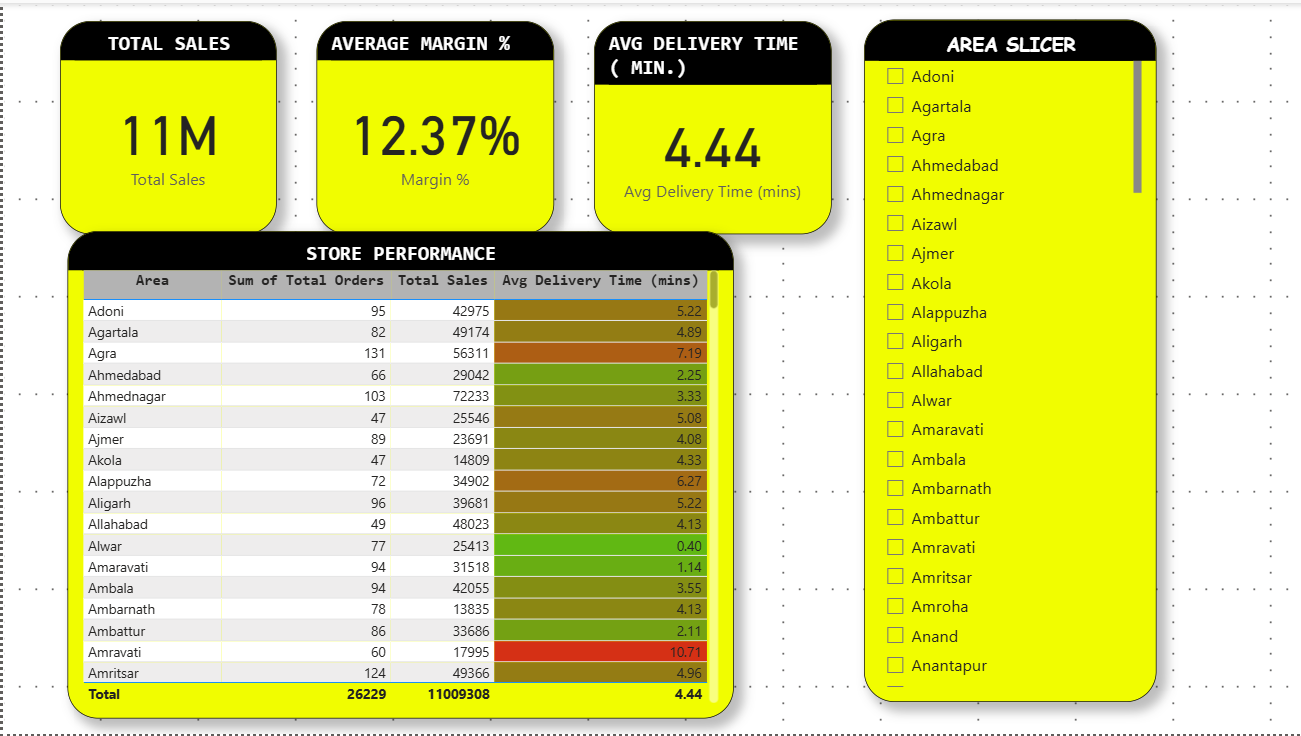

The dashboard page shown, as its layout file describes it:
{"tool":"powerbi","page":{"name":"REGION ANALYSIS ","canvas":[1280,720],"ordinal":5},"visuals":[{"type":"card","title":"TOTAL SALES","fields":{"Values":["blinkit_orders.Total Sales"]},"box":[56.7,17,213.5,209.8],"z":0},{"type":"card","title":"AVERAGE MARGIN %","fields":{"Values":["blinkit_orders.Margin %"]},"box":[308,17,234.3,209.8],"z":1000},{"type":"card","title":"AVG DELIVERY TIME ( MIN.)","fields":{"Values":["blinkit_orders.Avg Delivery Time (mins)"]},"box":[582.1,17,234.3,209.8],"z":2000},{"type":"tableEx","title":"STORE PERFORMANCE ","fields":{"Values":["blinkit_customers.area","Sum(blinkit_customers.total_orders)","blinkit_orders.Total Sales","blinkit_orders.Avg Delivery Time (mins)"]},"box":[64,224,656,480],"z":3000},{"type":"slicer","title":"AREA SLICER","fields":{"Values":["blinkit_customers.area"]},"box":[848,16,288,672],"z":4000}]}

Visuals, with their boxes in screenshot pixels (x1, y1, x2, y2), scaled from the page's 1280x720 canvas onto the 1301x736 screenshot:
"TOTAL SALES" card: (58,17,275,232)
"AVERAGE MARGIN %" card: (313,17,551,232)
"AVG DELIVERY TIME ( MIN.)" card: (592,17,830,232)
"STORE PERFORMANCE " tableEx: (65,229,732,720)
"AREA SLICER" slicer: (862,16,1155,703)
